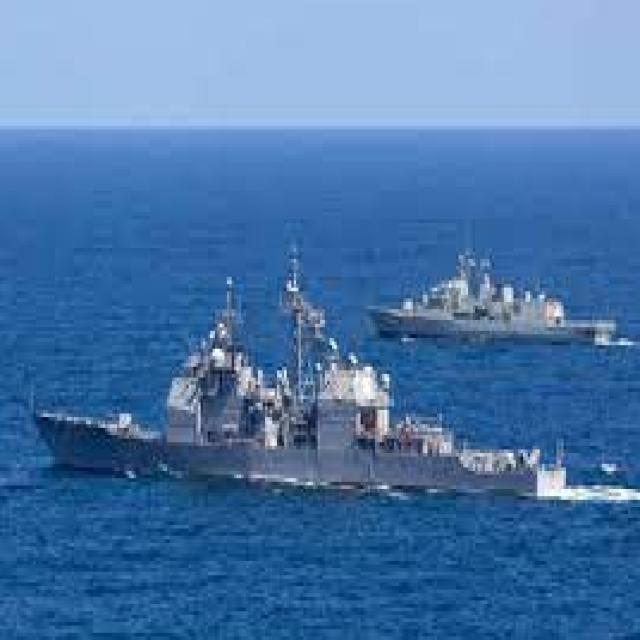navalvessels: (23, 277, 574, 523), (360, 247, 608, 361)
